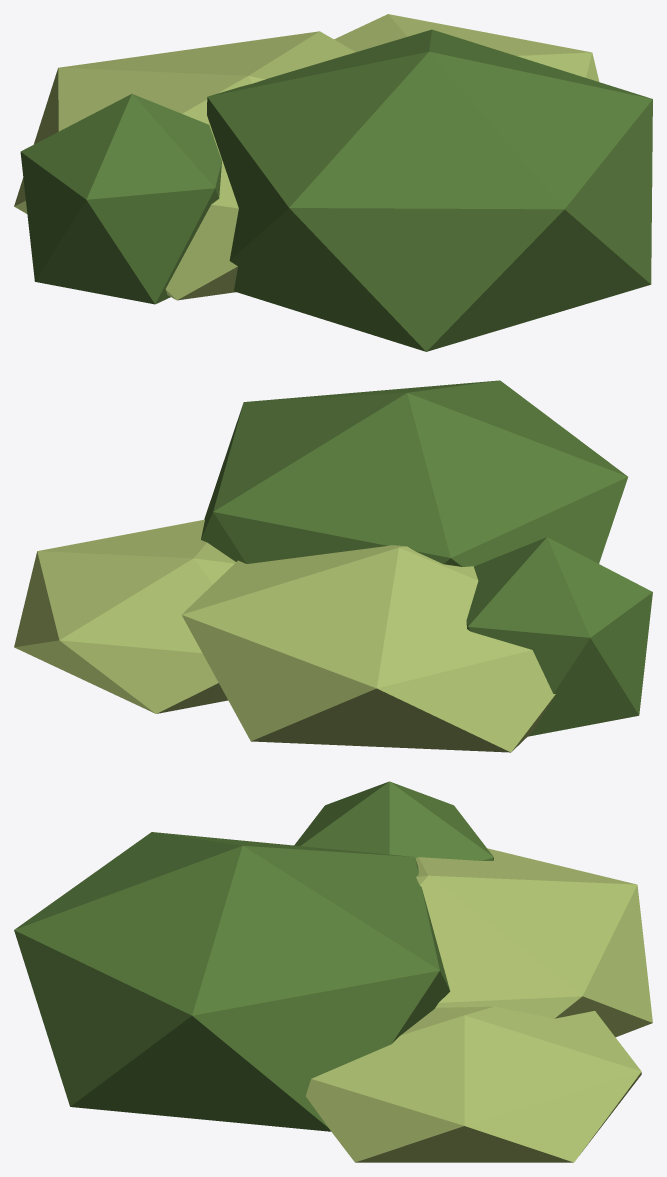
The model's file is Bush_02.glb.
3 views of the same model, one above another, from view 1: azimuth 30°, elevation 25°; view 2: azimuth 150°, elevation 25°; view 3: azimuth 270°, elevation 25° (orthographic). The views are drawn at different scales.
Parts seen in each view (by area): view 1: Bush_02; view 2: Bush_02; view 3: Bush_02.
Part boxes in pixels (<box>): Bush_02: <box>14,14,652,351</box>; Bush_02: <box>14,380,652,752</box>; Bush_02: <box>14,781,652,1162</box>.
Size of what is drawn, in the model's own units: 2.1 by 0.6978 by 1.99.
1 material, 1 textured.
